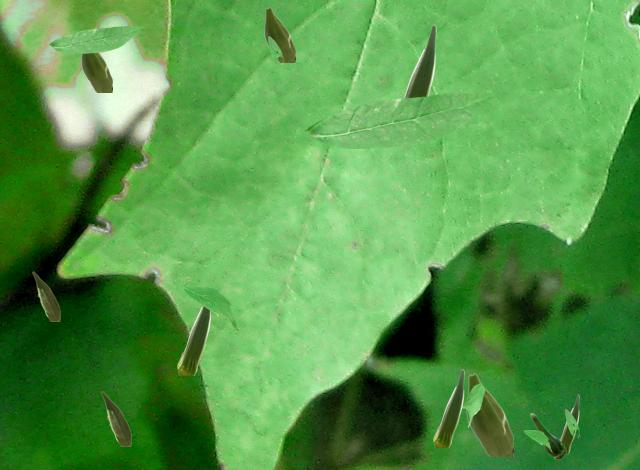okra: (466, 373, 512, 455), (433, 369, 463, 446), (404, 24, 435, 96), (177, 307, 210, 374), (264, 7, 294, 61), (530, 413, 565, 458), (101, 391, 130, 445), (32, 271, 59, 320), (81, 53, 111, 91), (560, 394, 578, 453)
